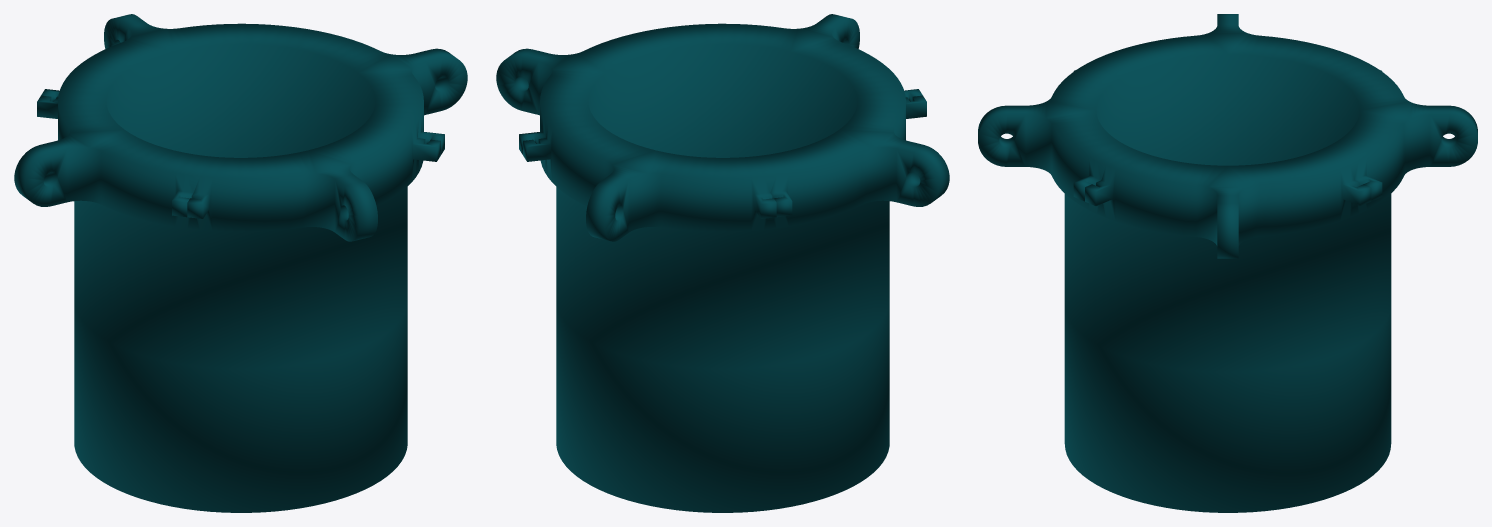
Rendered from slider.dae.
3 views of the same model, side by side, from view 1: azimuth 30°, elevation 25°; view 2: azimuth 150°, elevation 25°; view 3: azimuth 270°, elevation 25° (orthographic). The views are drawn at different scales.
Parts seen in each view (by area): view 1: slider; view 2: slider; view 3: slider.
Part boxes in pixels (<box>): slider: <box>14,14,467,512</box>; slider: <box>496,14,949,512</box>; slider: <box>978,14,1477,512</box>.
Bounding box in the file's own units: 0.095 × 0.095 × 0.07.
